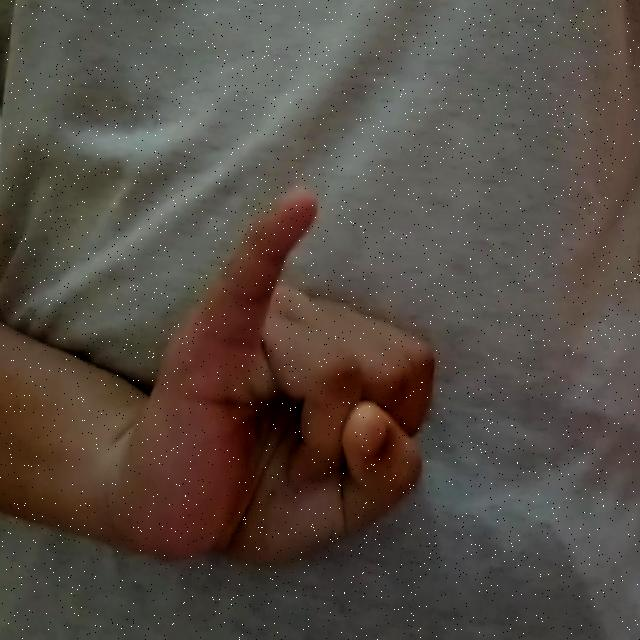I: (110, 186, 444, 573)
